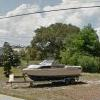Boat: (19, 58, 86, 84)
